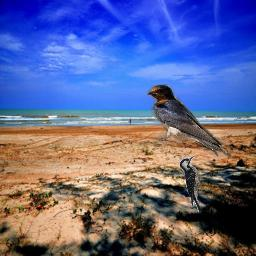Swallow: (147, 84, 235, 160)
Woodpecker: (179, 155, 209, 212)
